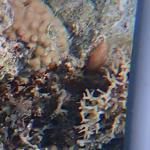dead: (5, 13, 140, 133)
